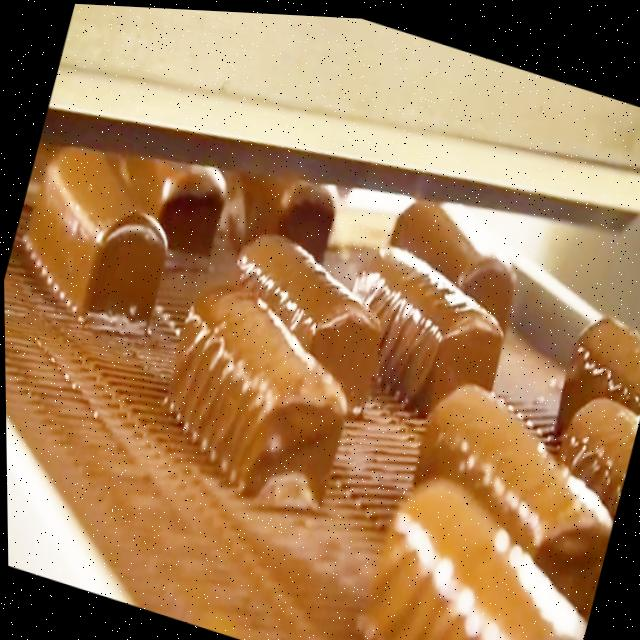Choco: (387, 350, 638, 597), (139, 258, 374, 521), (338, 453, 608, 640), (322, 217, 525, 432), (5, 127, 191, 339), (205, 214, 402, 411), (365, 184, 547, 357), (544, 281, 640, 465), (547, 368, 640, 505), (129, 159, 240, 263), (240, 168, 348, 261)
